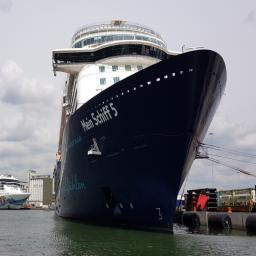cruises: (49, 25, 230, 245)
